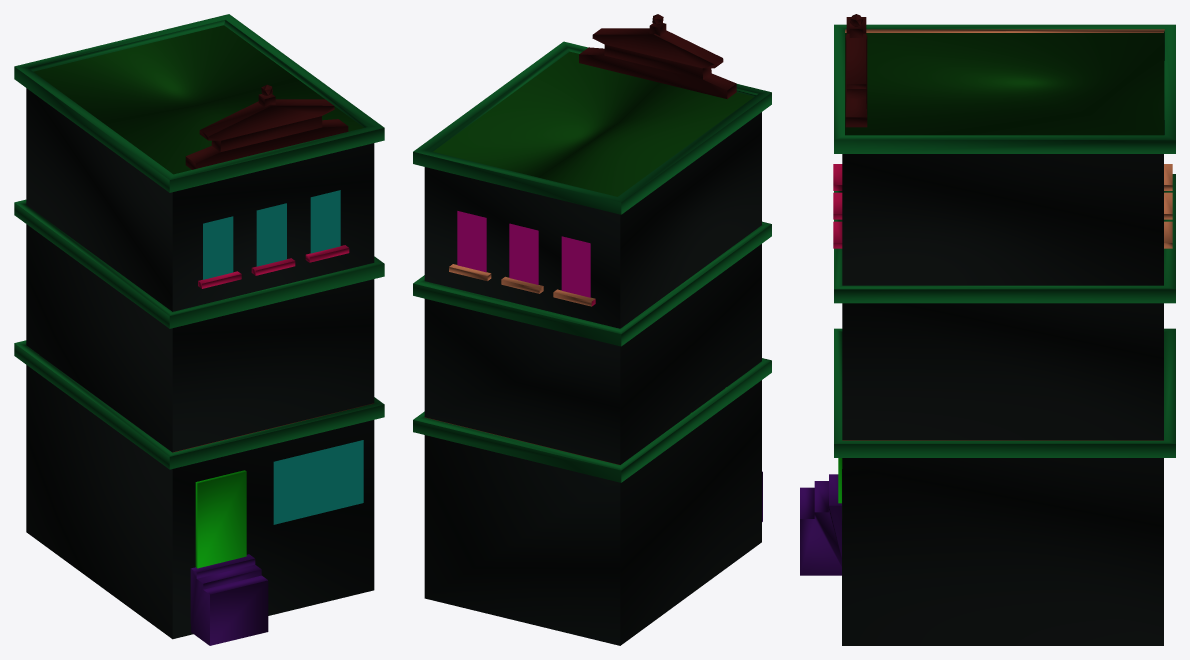
File: Building 2.fbx
The picture shows the model from 3 angles, left to right: view 1: azimuth 30°, elevation 25°; view 2: azimuth 150°, elevation 25°; view 3: azimuth 270°, elevation 25°; orthographic projection. The views are drawn at different scales.
Visible parts, largest first — view 1: Cube.002; view 2: Cube.002; view 3: Cube.002.
Part boxes in pixels (left/top/right/bottom): Cube.002: left=14, top=14, right=384, bottom=645; Cube.002: left=413, top=14, right=771, bottom=645; Cube.002: left=800, top=14, right=1175, bottom=645.
Bounding box in the file's own units: 1222 × 2856 × 1684.
